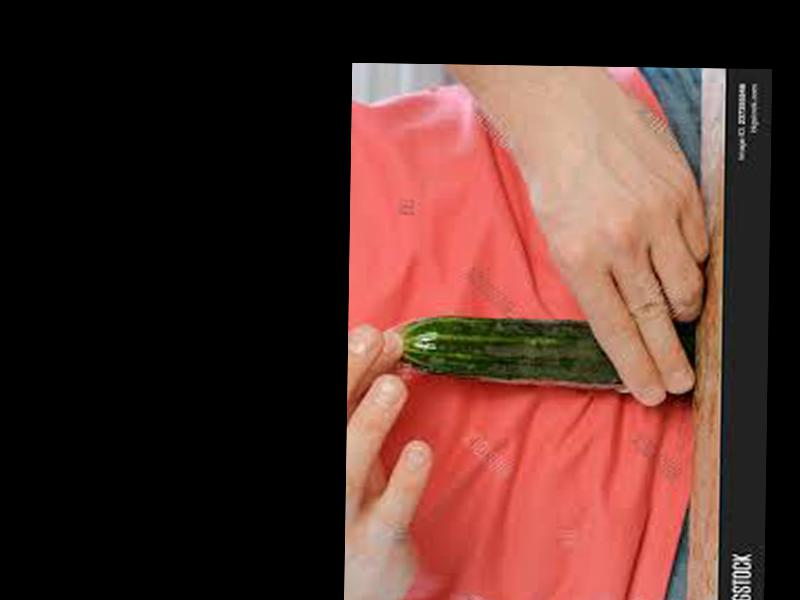Cucumber: (400, 314, 625, 388)
